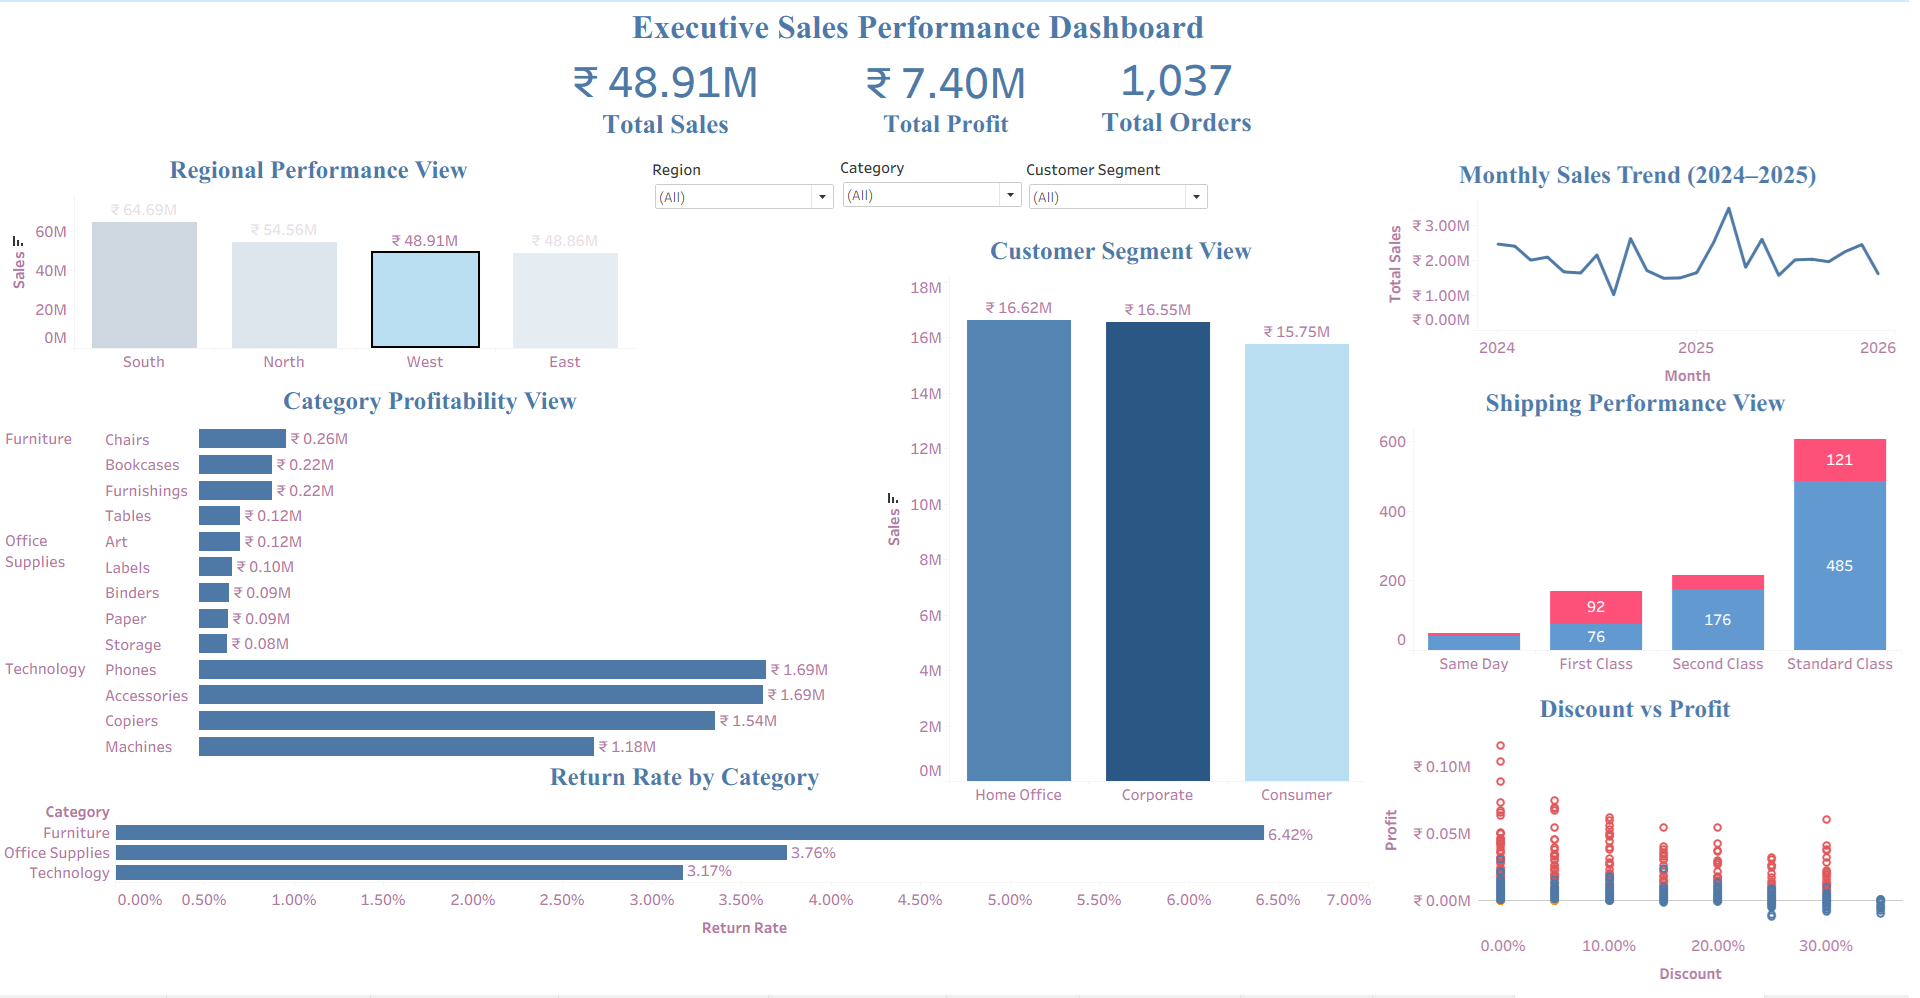

The page's visual inventory and layout, read from the dashboard file:
{"tool":"tableau","page":{"name":"Executive Sales Performance Dashboard","canvas":[1000,1000],"units":"permille","ordinal":0},"visuals":[{"type":"text","box":[297.7,3.8,372.8,42.5]},{"type":"worksheet","title":"KPI : Total Profit","mark":"Automatic","box":[451.6,47.4,135.3,118.6]},{"type":"worksheet","title":"KPI : Total Orders","mark":"Automatic","box":[577.3,48.7,123.3,112.4]},{"type":"worksheet","title":"KPI : Total Sales","mark":"Automatic","box":[300.7,49.9,153.3,112.4]},{"type":"worksheet","title":"Regional performance view","mark":"Automatic","rows":["sales"],"cols":["region"],"box":[6,151.1,330.7,222.2]},{"type":"filter","title":"Category profitability view","param":"[federated.15p8m9708xk98t1epphuq06zvli9].[none:category:nk]","box":[443.2,156.1,96.2,82.4]},{"type":"worksheet","title":"Sales trend view","mark":"Automatic","rows":["sales"],"cols":["order_date"],"box":[722.8,156.1,271.2,237.2]},{"type":"filter","title":"Regional performance view","param":"[federated.15p8m9708xk98t1epphuq06zvli9].[none:region:nk]","box":[345.2,158.6,96.2,62.4]},{"type":"filter","title":"Customer segment view","param":"[federated.15p8m9708xk98t1epphuq06zvli9].[none:customer_segment:nk]","box":[540,158.6,96.2,62.4]},{"type":"worksheet","title":"Customer segment view","mark":"Automatic","rows":["sales"],"cols":["customer_segment"],"box":[461.8,232.2,255,591.8]},{"type":"worksheet","title":"Category profitability view","mark":"Automatic","rows":["category","sub_category"],"cols":["profit"],"box":[5.4,383.3,449.2,378.3]},{"type":"worksheet","title":"Shipping performance view","mark":"Automatic","rows":["order_id"],"cols":["ship_mode"],"box":[718.6,385.8,277.8,307.1]},{"type":"worksheet","title":"Discount vs profit view","mark":"Automatic","rows":["profit"],"cols":["discount"],"box":[721,694.1,276,302.1]},{"type":"worksheet","title":"Return analysis view","mark":"Automatic","rows":["category"],"cols":["Calculation_0599525704351747"],"box":[3,762.8,718,236]}]}

Visuals, with their boxes on the dashboard's canvas, which has no fixed pixel size, in thousandths of its width and height (x1, y1, x2, y2). These are canvas units, not pixel positions in the 1920x998 screenshot, which may show the page scaled, cropped or inside an application window:
text: bbox=(298, 4, 670, 46)
"KPI : Total Profit" worksheet: bbox=(452, 47, 587, 166)
"KPI : Total Orders" worksheet: bbox=(577, 49, 701, 161)
"KPI : Total Sales" worksheet: bbox=(301, 50, 454, 162)
"Regional performance view" worksheet: bbox=(6, 151, 337, 373)
"Category profitability view" filter: bbox=(443, 156, 539, 238)
"Sales trend view" worksheet: bbox=(723, 156, 994, 393)
"Regional performance view" filter: bbox=(345, 159, 441, 221)
"Customer segment view" filter: bbox=(540, 159, 636, 221)
"Customer segment view" worksheet: bbox=(462, 232, 717, 824)
"Category profitability view" worksheet: bbox=(5, 383, 455, 762)
"Shipping performance view" worksheet: bbox=(719, 386, 996, 693)
"Discount vs profit view" worksheet: bbox=(721, 694, 997, 996)
"Return analysis view" worksheet: bbox=(3, 763, 721, 999)
